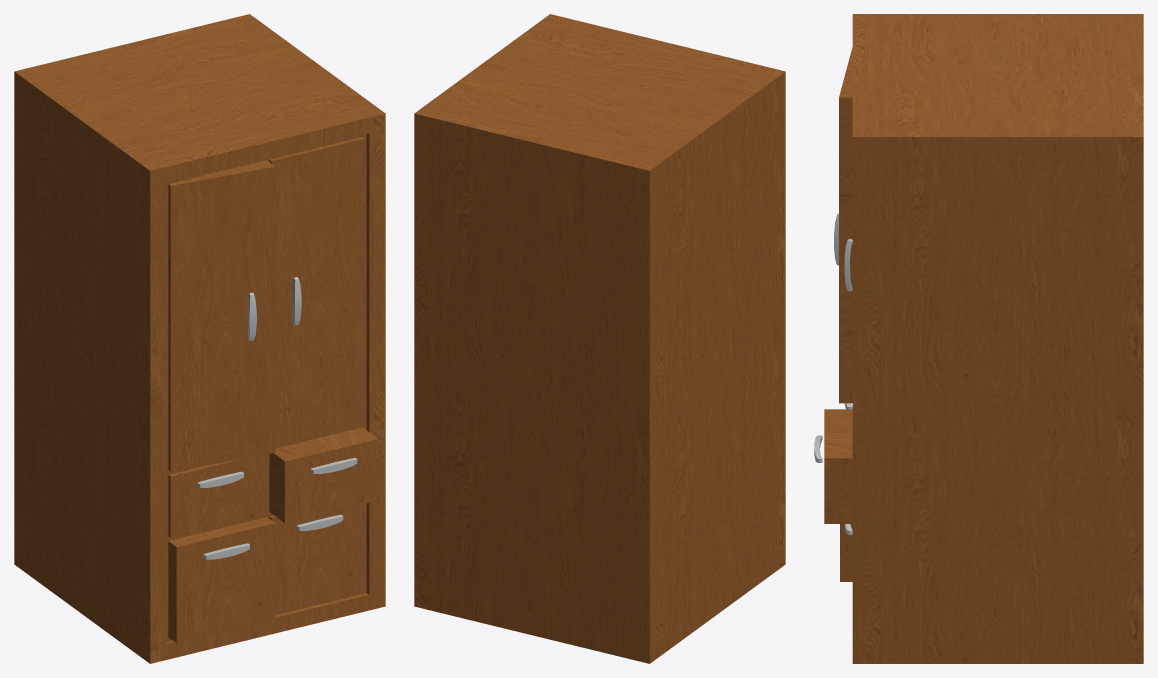
The model's file is cupboardOpen.fbx.
3 renders of one model, left to right at view 1: azimuth 30°, elevation 25°; view 2: azimuth 150°, elevation 25°; view 3: azimuth 270°, elevation 25°, orthographic. The views are drawn at different scales.
Parts seen in each view (by area): view 1: cupboard1_pCube37; view 2: cupboard1_pCube37; view 3: cupboard1_pCube37.
Boxes of the visible parts, x1=… form: cupboard1_pCube37: x1=14, y1=14, x2=385, y2=663; cupboard1_pCube37: x1=414, y1=14, x2=785, y2=663; cupboard1_pCube37: x1=814, y1=14, x2=1143, y2=663.
Bounding box in the file's own units: 1 × 2 × 1.13.
